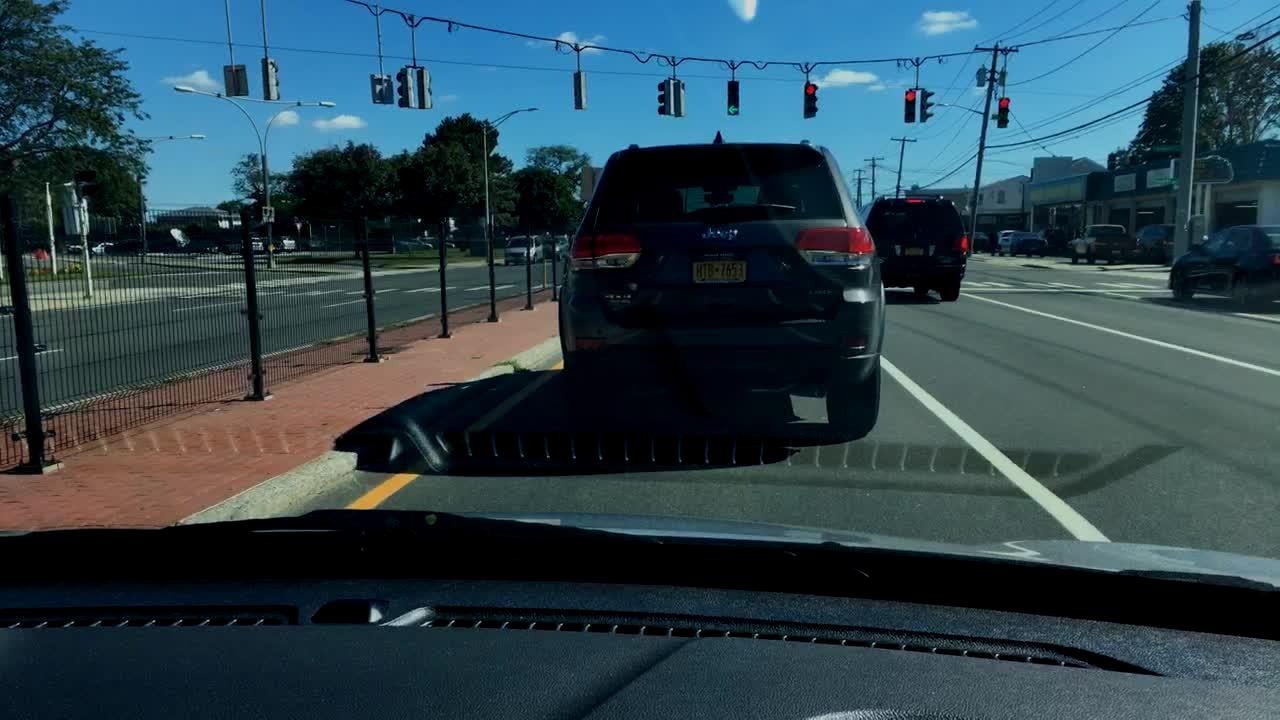jeep: (690, 222, 754, 246)
